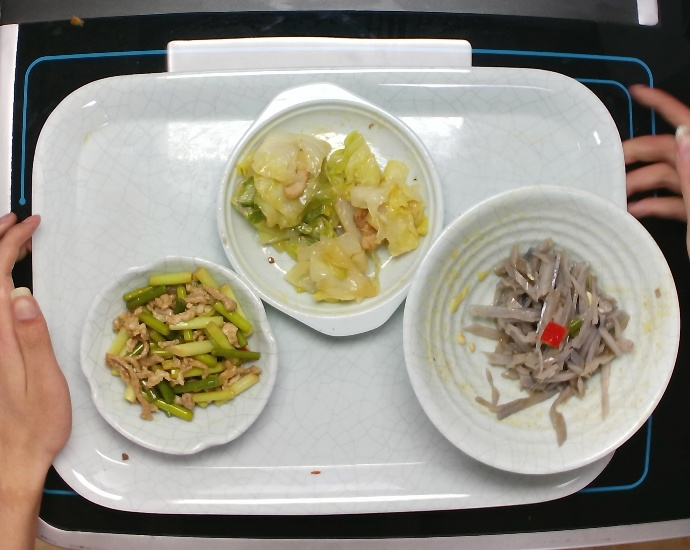JYsf-Ao_Yuan_Wan: (75, 253, 281, 457)
JYsf-Shuang_Er_Pan: (215, 84, 451, 343)
JYsf-Xiao_Tang_Wan: (396, 176, 685, 473)
